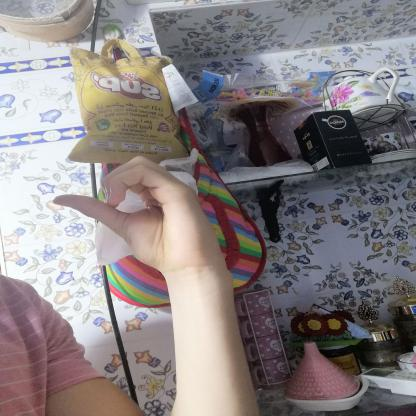WAW: (40, 145, 229, 282)
